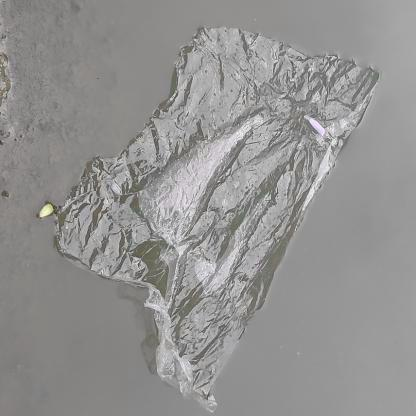Trash: (45, 31, 379, 404)
